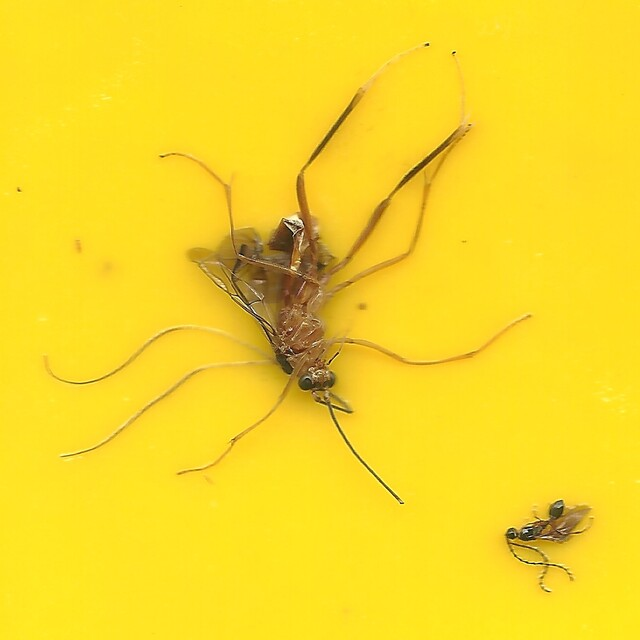Hymenoptera: (49, 44, 531, 508), (505, 499, 591, 596)
